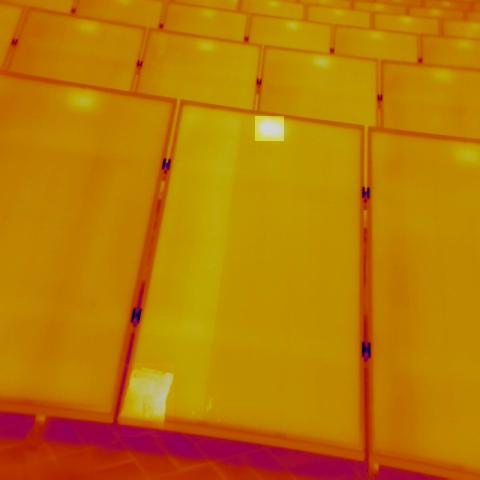fault: (121, 363, 174, 437), (255, 116, 284, 141)
